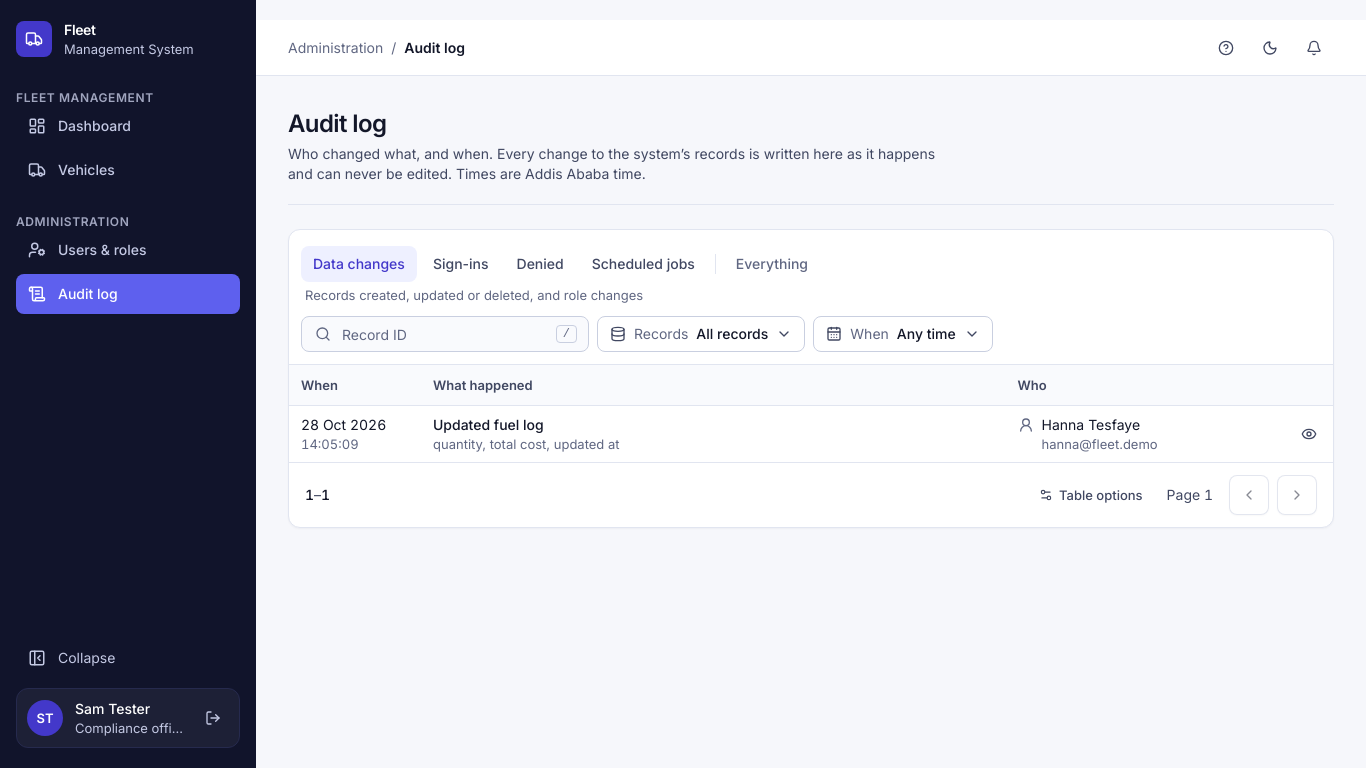
it: Audit log (S-10) › finds a record by its ID; anything else is explained, not sent
The image size is (1366, 768).
Expected: the table named "Audit entries, newest first" is shown, [289,365,1333,462]
Type "AA 3-12345" into the search field named "Find a record by its ID".
click(445, 334); type("AA 3-12345")  # box [301,316,589,352]
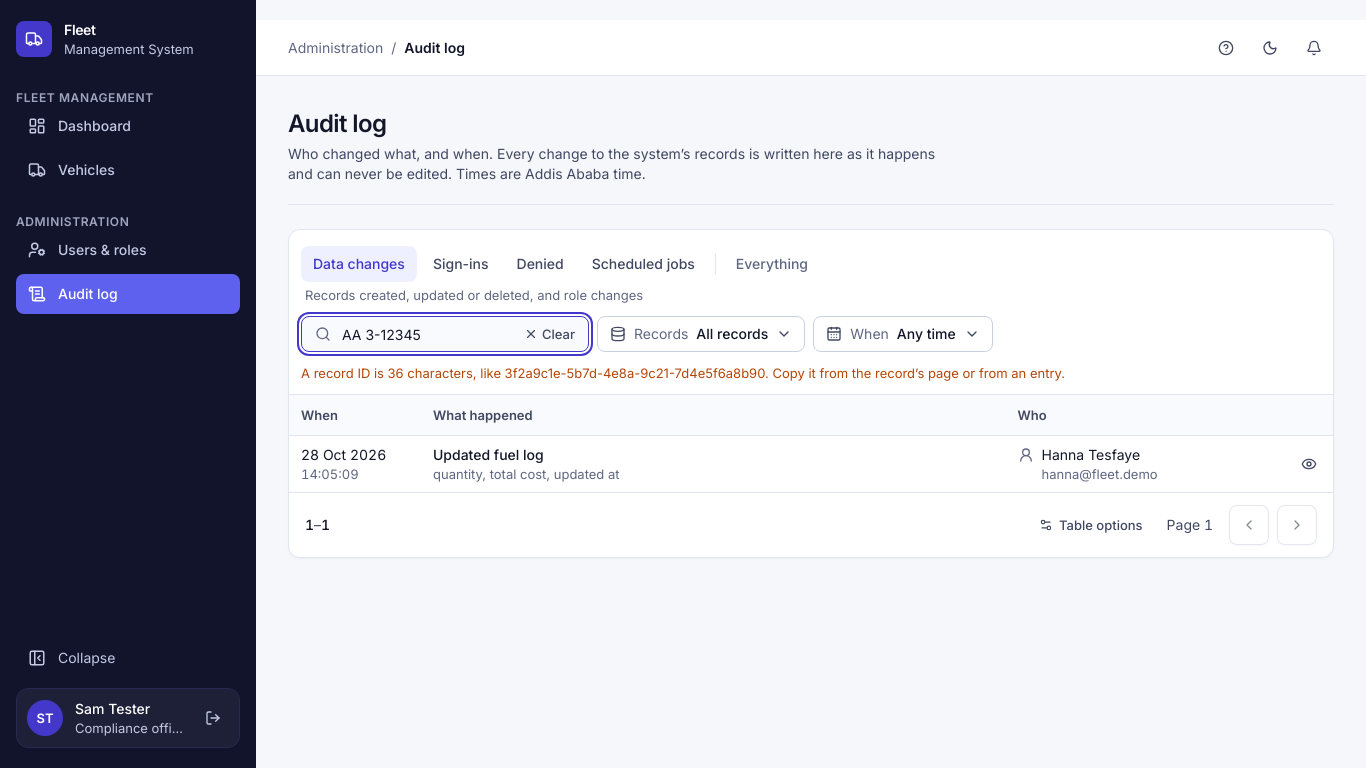
Now the text "A record ID is 36 characters" is shown, box [301,365,1065,381]
Replace the text in the search field named "Find a record by its ID" with "5c1f7d2e-2222-4222-8222-222222222222" at (445, 334), box [301,316,589,352]
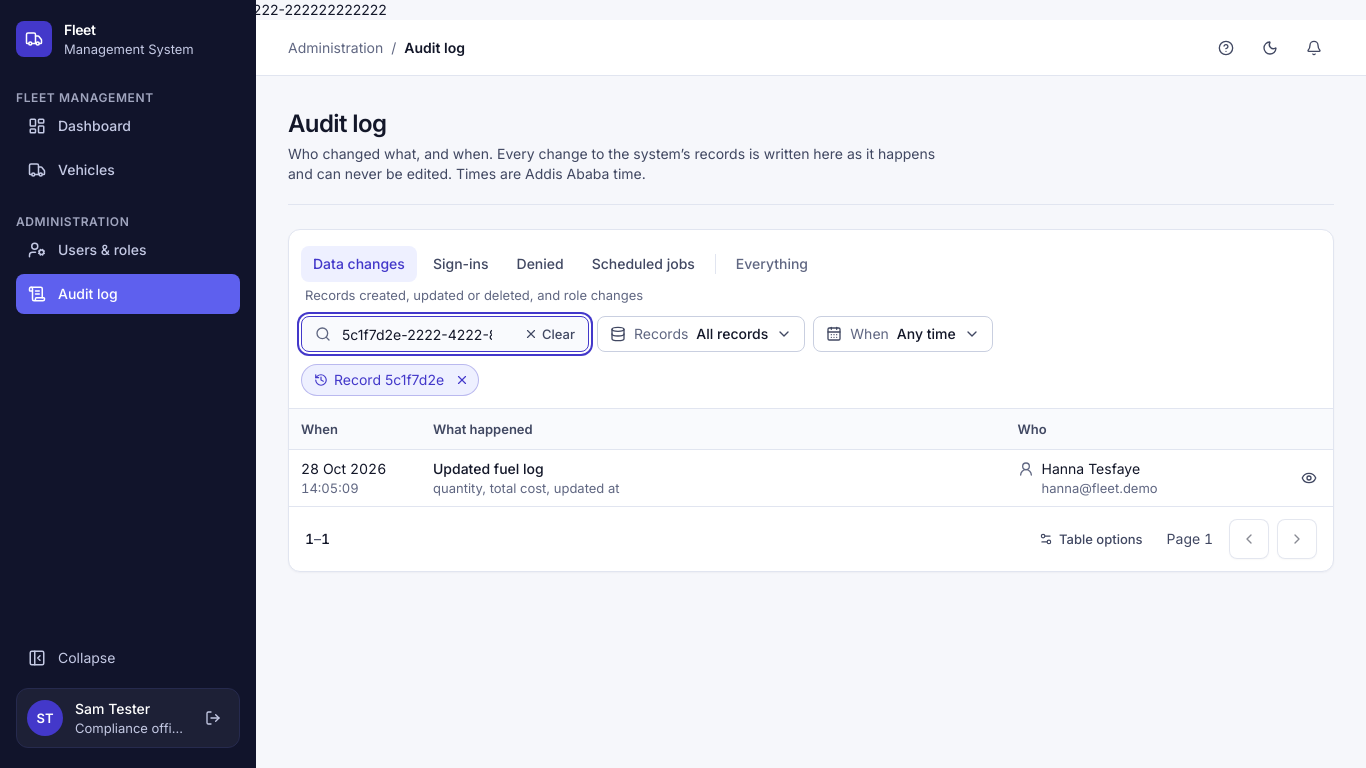
Now the text "A record ID is 36 characters" is gone
